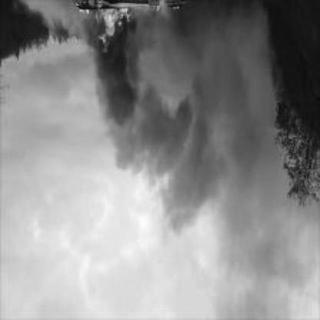Smoke: (91, 55, 317, 257)
